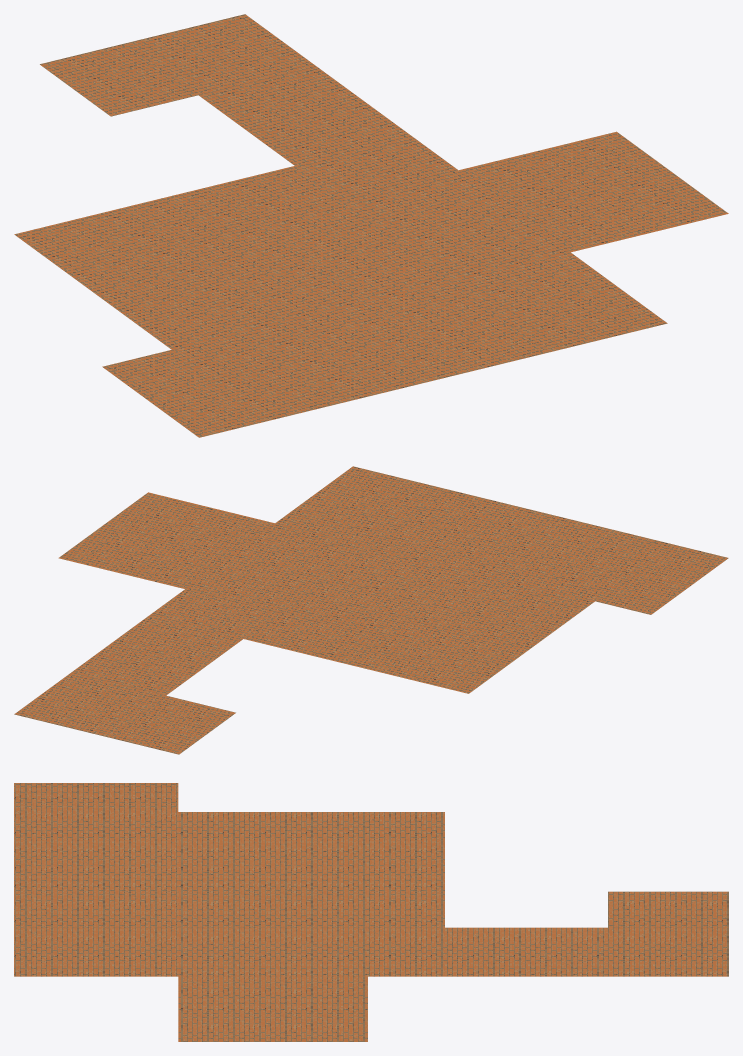
File: Ground.fbx
3 renders of one model, top to bottom at view 1: azimuth 30°, elevation 25°; view 2: azimuth 150°, elevation 25°; view 3: azimuth 270°, elevation 25°, orthographic. The views are drawn at different scales.
Parts seen in each view (by area): view 1: Ground; view 2: Ground; view 3: Ground.
Boxes of the visible parts, x1,y1,x2,y2 form: Ground: (14, 14, 728, 437); Ground: (14, 466, 728, 754); Ground: (14, 783, 728, 1041).
Size of the model in its own units: 20.29 by 0 by 23.7.
